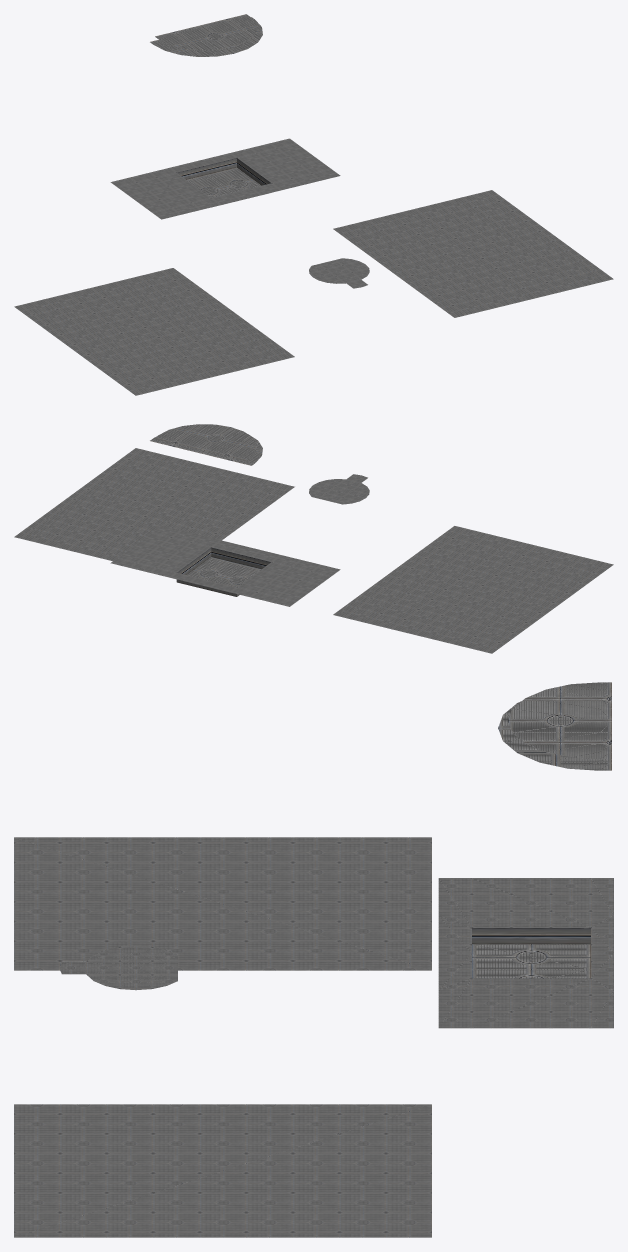
File: floor_tex2.fbx
3 views of the same model, one above another, from view 1: azimuth 30°, elevation 25°; view 2: azimuth 150°, elevation 25°; view 3: azimuth 270°, elevation 25° (orthographic). The views are drawn at different scales.
Visible parts, largest first — view 1: floor_tex2; view 2: floor_tex2; view 3: floor_tex2.
Part boxes in pixels (bbox=[...]): floor_tex2: bbox=[14, 14, 613, 395]; floor_tex2: bbox=[14, 424, 613, 653]; floor_tex2: bbox=[14, 682, 613, 1237].
Bounding box in the file's own units: 678 × 250 × 429.
Materials: 1 (1 with a texture image).
